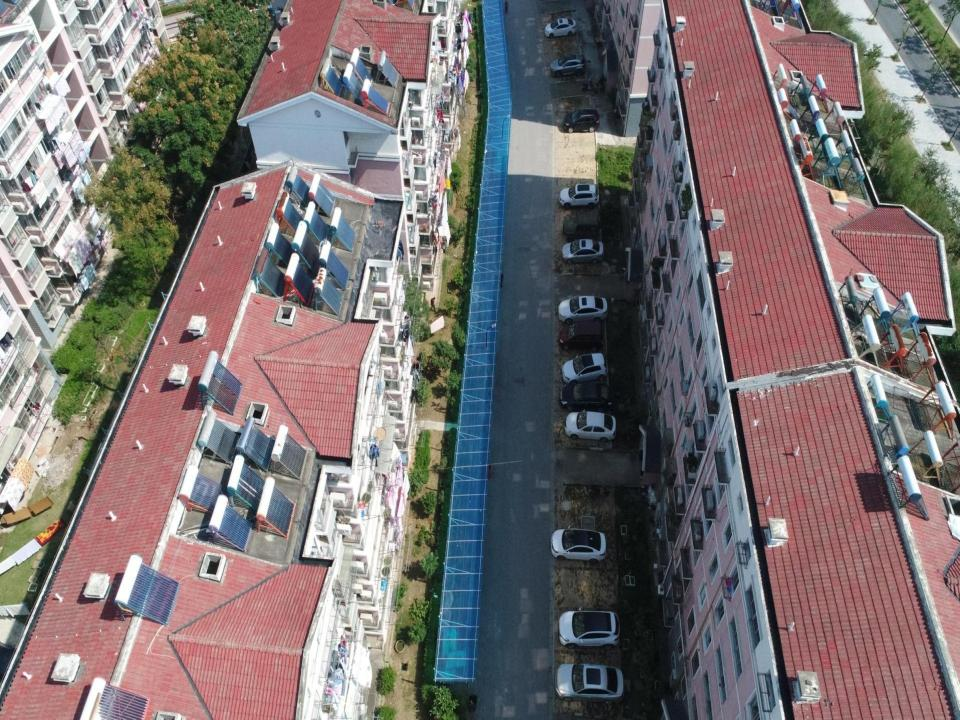car: (555, 661, 625, 703), (558, 607, 620, 649), (550, 528, 607, 562), (559, 289, 608, 327), (556, 381, 614, 411), (559, 320, 607, 355), (565, 411, 616, 443), (562, 356, 607, 381), (559, 181, 597, 210), (561, 238, 602, 264), (564, 210, 601, 238), (563, 106, 599, 132), (547, 53, 582, 79), (544, 15, 575, 41)
